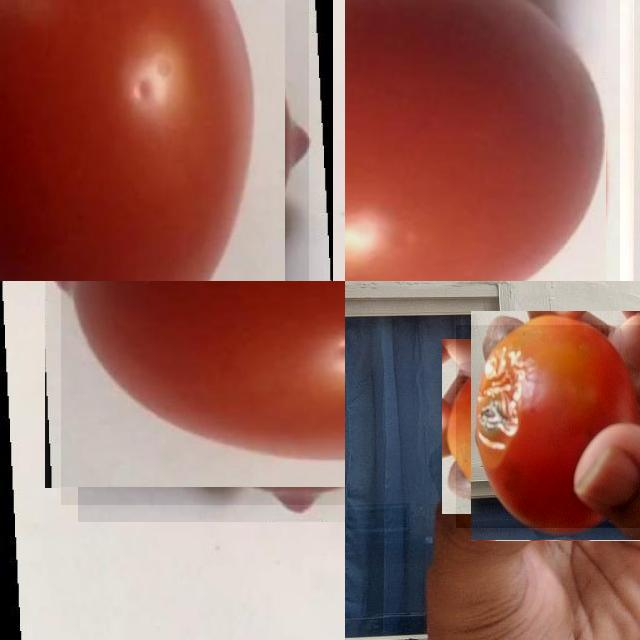1: (456, 325, 640, 527)
Fresh Tomato: (0, 0, 309, 281), (345, 0, 620, 281), (60, 281, 345, 505)
